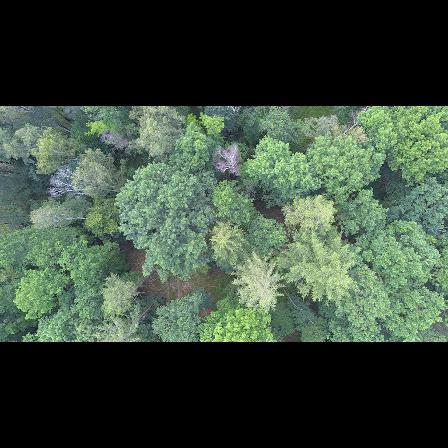Dead: (45, 166, 89, 201), (211, 141, 242, 178), (98, 127, 133, 155)
